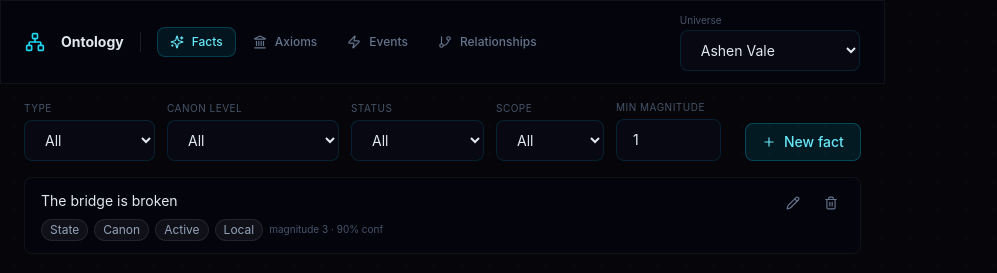
Scenario: Ontology page — shell › switches tabs and queries the matching endpoint
Expected: the text "The bridge is broken" is shown, [41,192,178,209]
Step 1. Click the button "Axioms" → (285, 42), box [240,27,330,57]
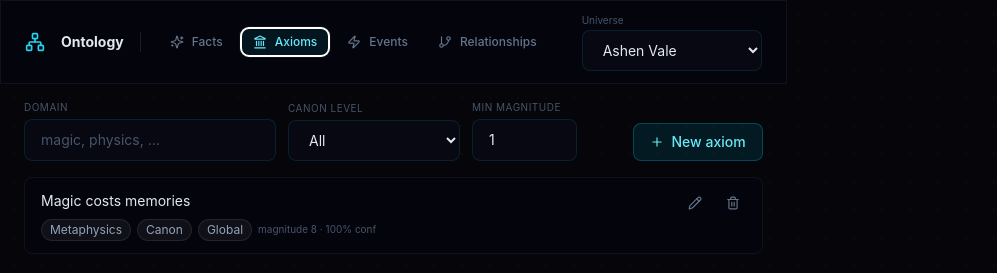
Expected: the text "Magic costs memories" is shown, [41,192,190,209]
Step 2. Click the button "Events" → (378, 42), box [334,27,421,57]
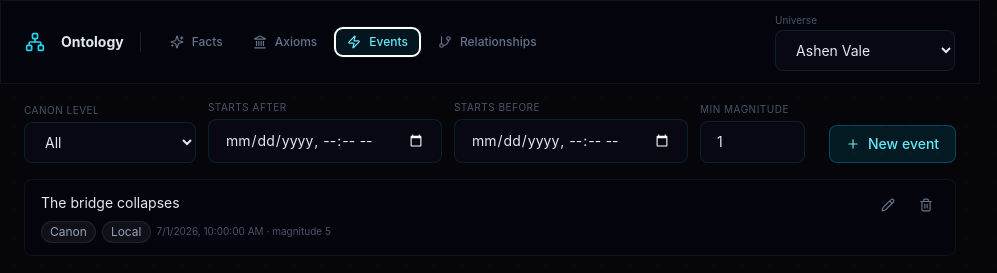
Expected: the text "The bridge collapses" is shown, [41,194,180,211]
Step 3. Click the button "Relationships" → (487, 42), box [425,27,550,57]
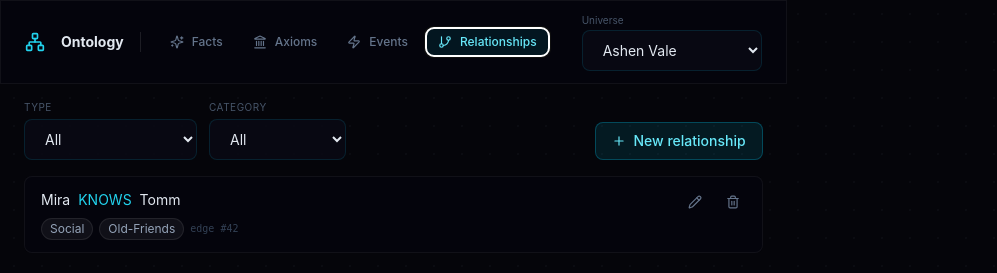
Expected: the text "edge #42" is shown, [190,221,238,236]
